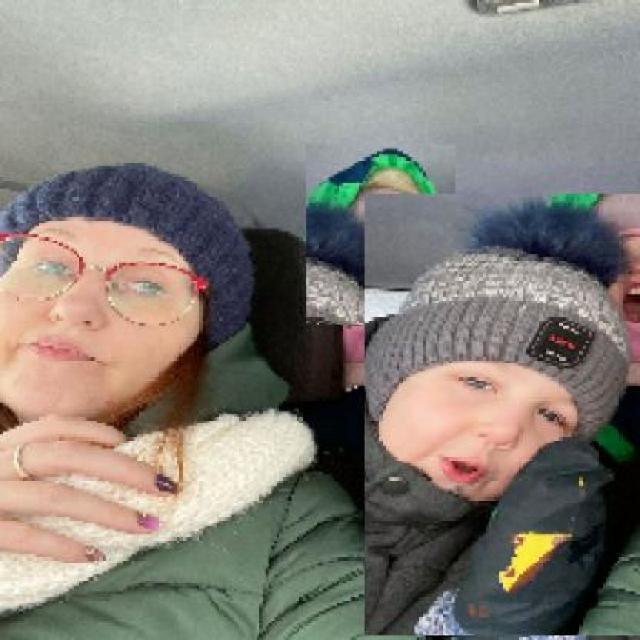child: (363, 194, 640, 637), (304, 145, 456, 326)
